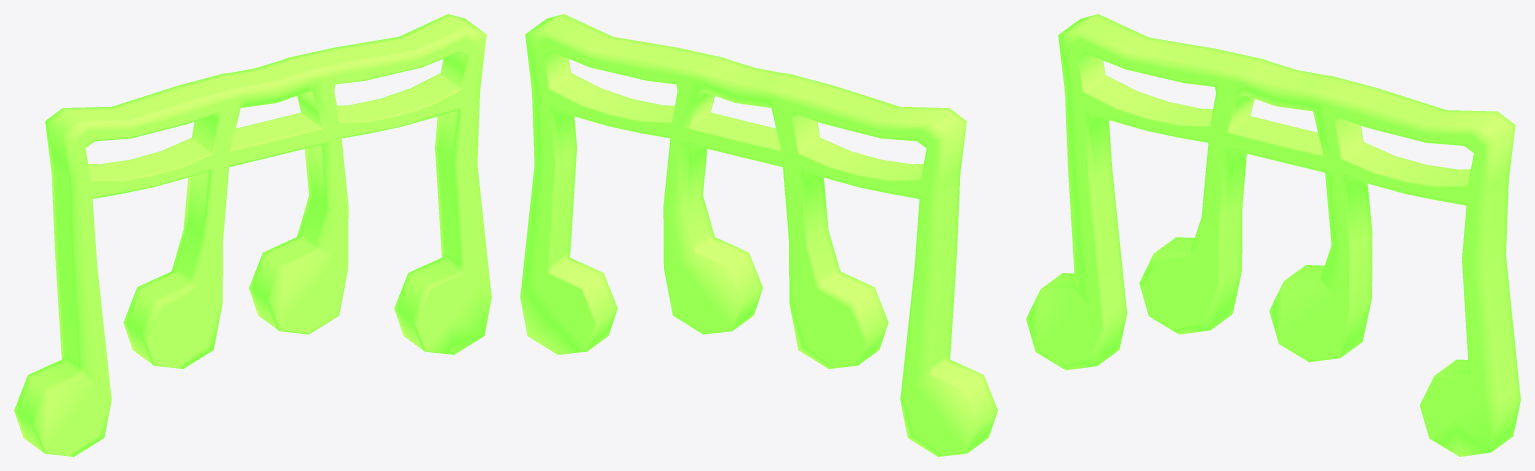
The model's file is Notes_4.glb.
The picture shows the model from 3 angles, left to right: view 1: azimuth 30°, elevation 25°; view 2: azimuth 150°, elevation 25°; view 3: azimuth 330°, elevation 25°; orthographic projection. The views are drawn at different scales.
Visible parts, largest first — view 1: Keys_Obj; view 2: Keys_Obj; view 3: Keys_Obj.
Part boxes in pixels (left/top/right/bottom): Keys_Obj: left=14, top=14, right=491, bottom=456; Keys_Obj: left=520, top=14, right=997, bottom=456; Keys_Obj: left=1026, top=14, right=1520, bottom=456.
Size of what is drawn, in the model's own units: 2.76 by 1.91 by 0.2246.
